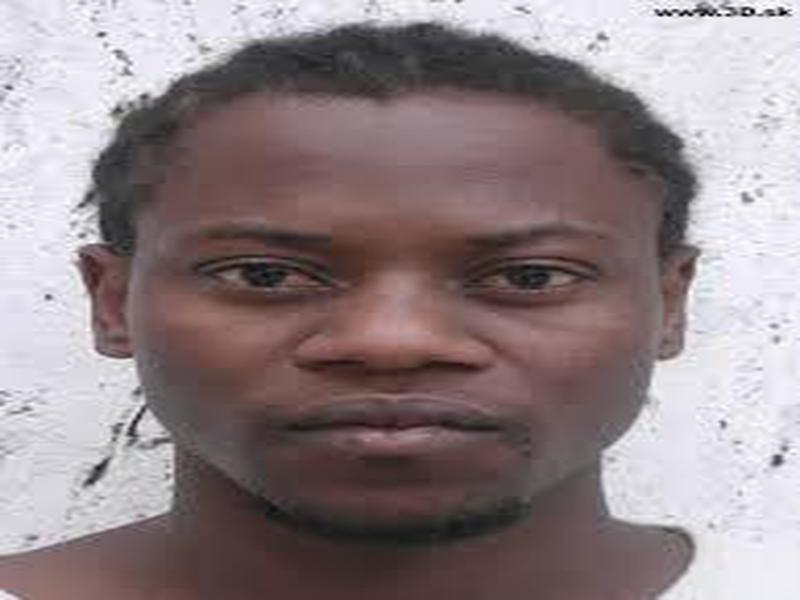without_mask: (127, 133, 659, 538)
